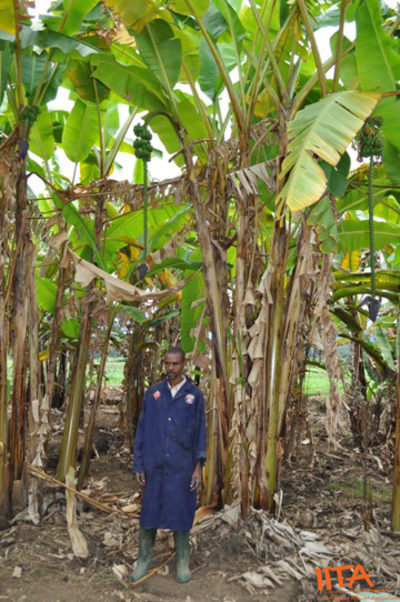bananaHand: (131, 120, 155, 165), (358, 124, 387, 161), (18, 100, 44, 128)
